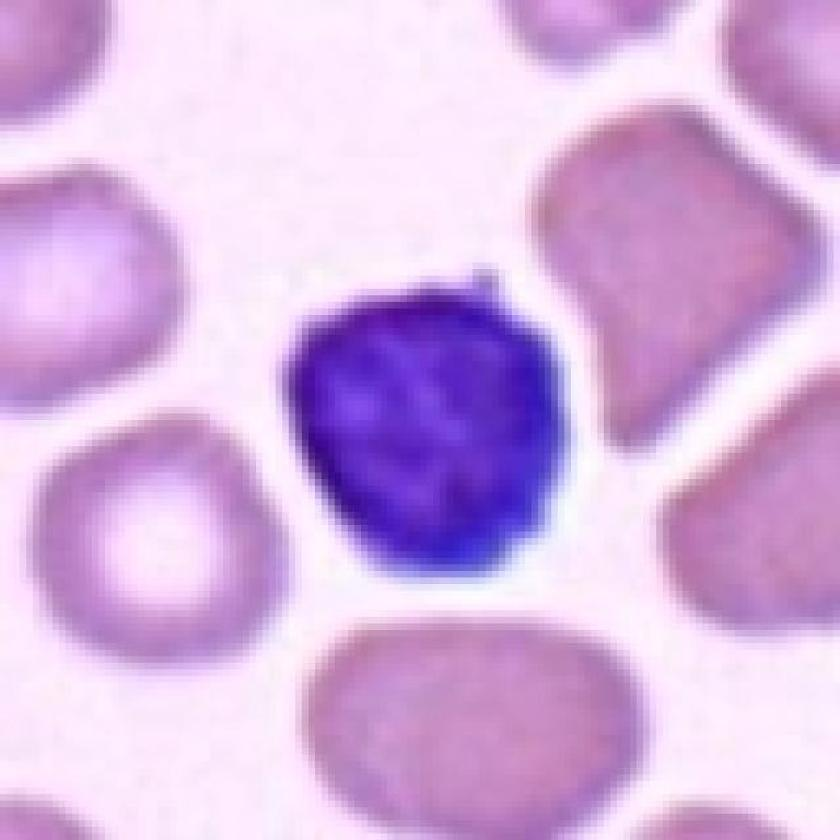lymphocyte: (252, 220, 596, 601)
